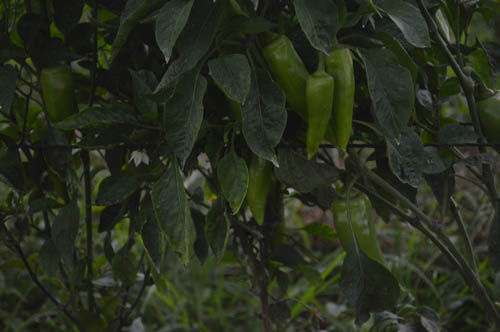ChiliPepper: (266, 43, 329, 139), (337, 192, 388, 260), (322, 50, 355, 151), (298, 74, 336, 159), (32, 64, 76, 128), (242, 156, 270, 223)
